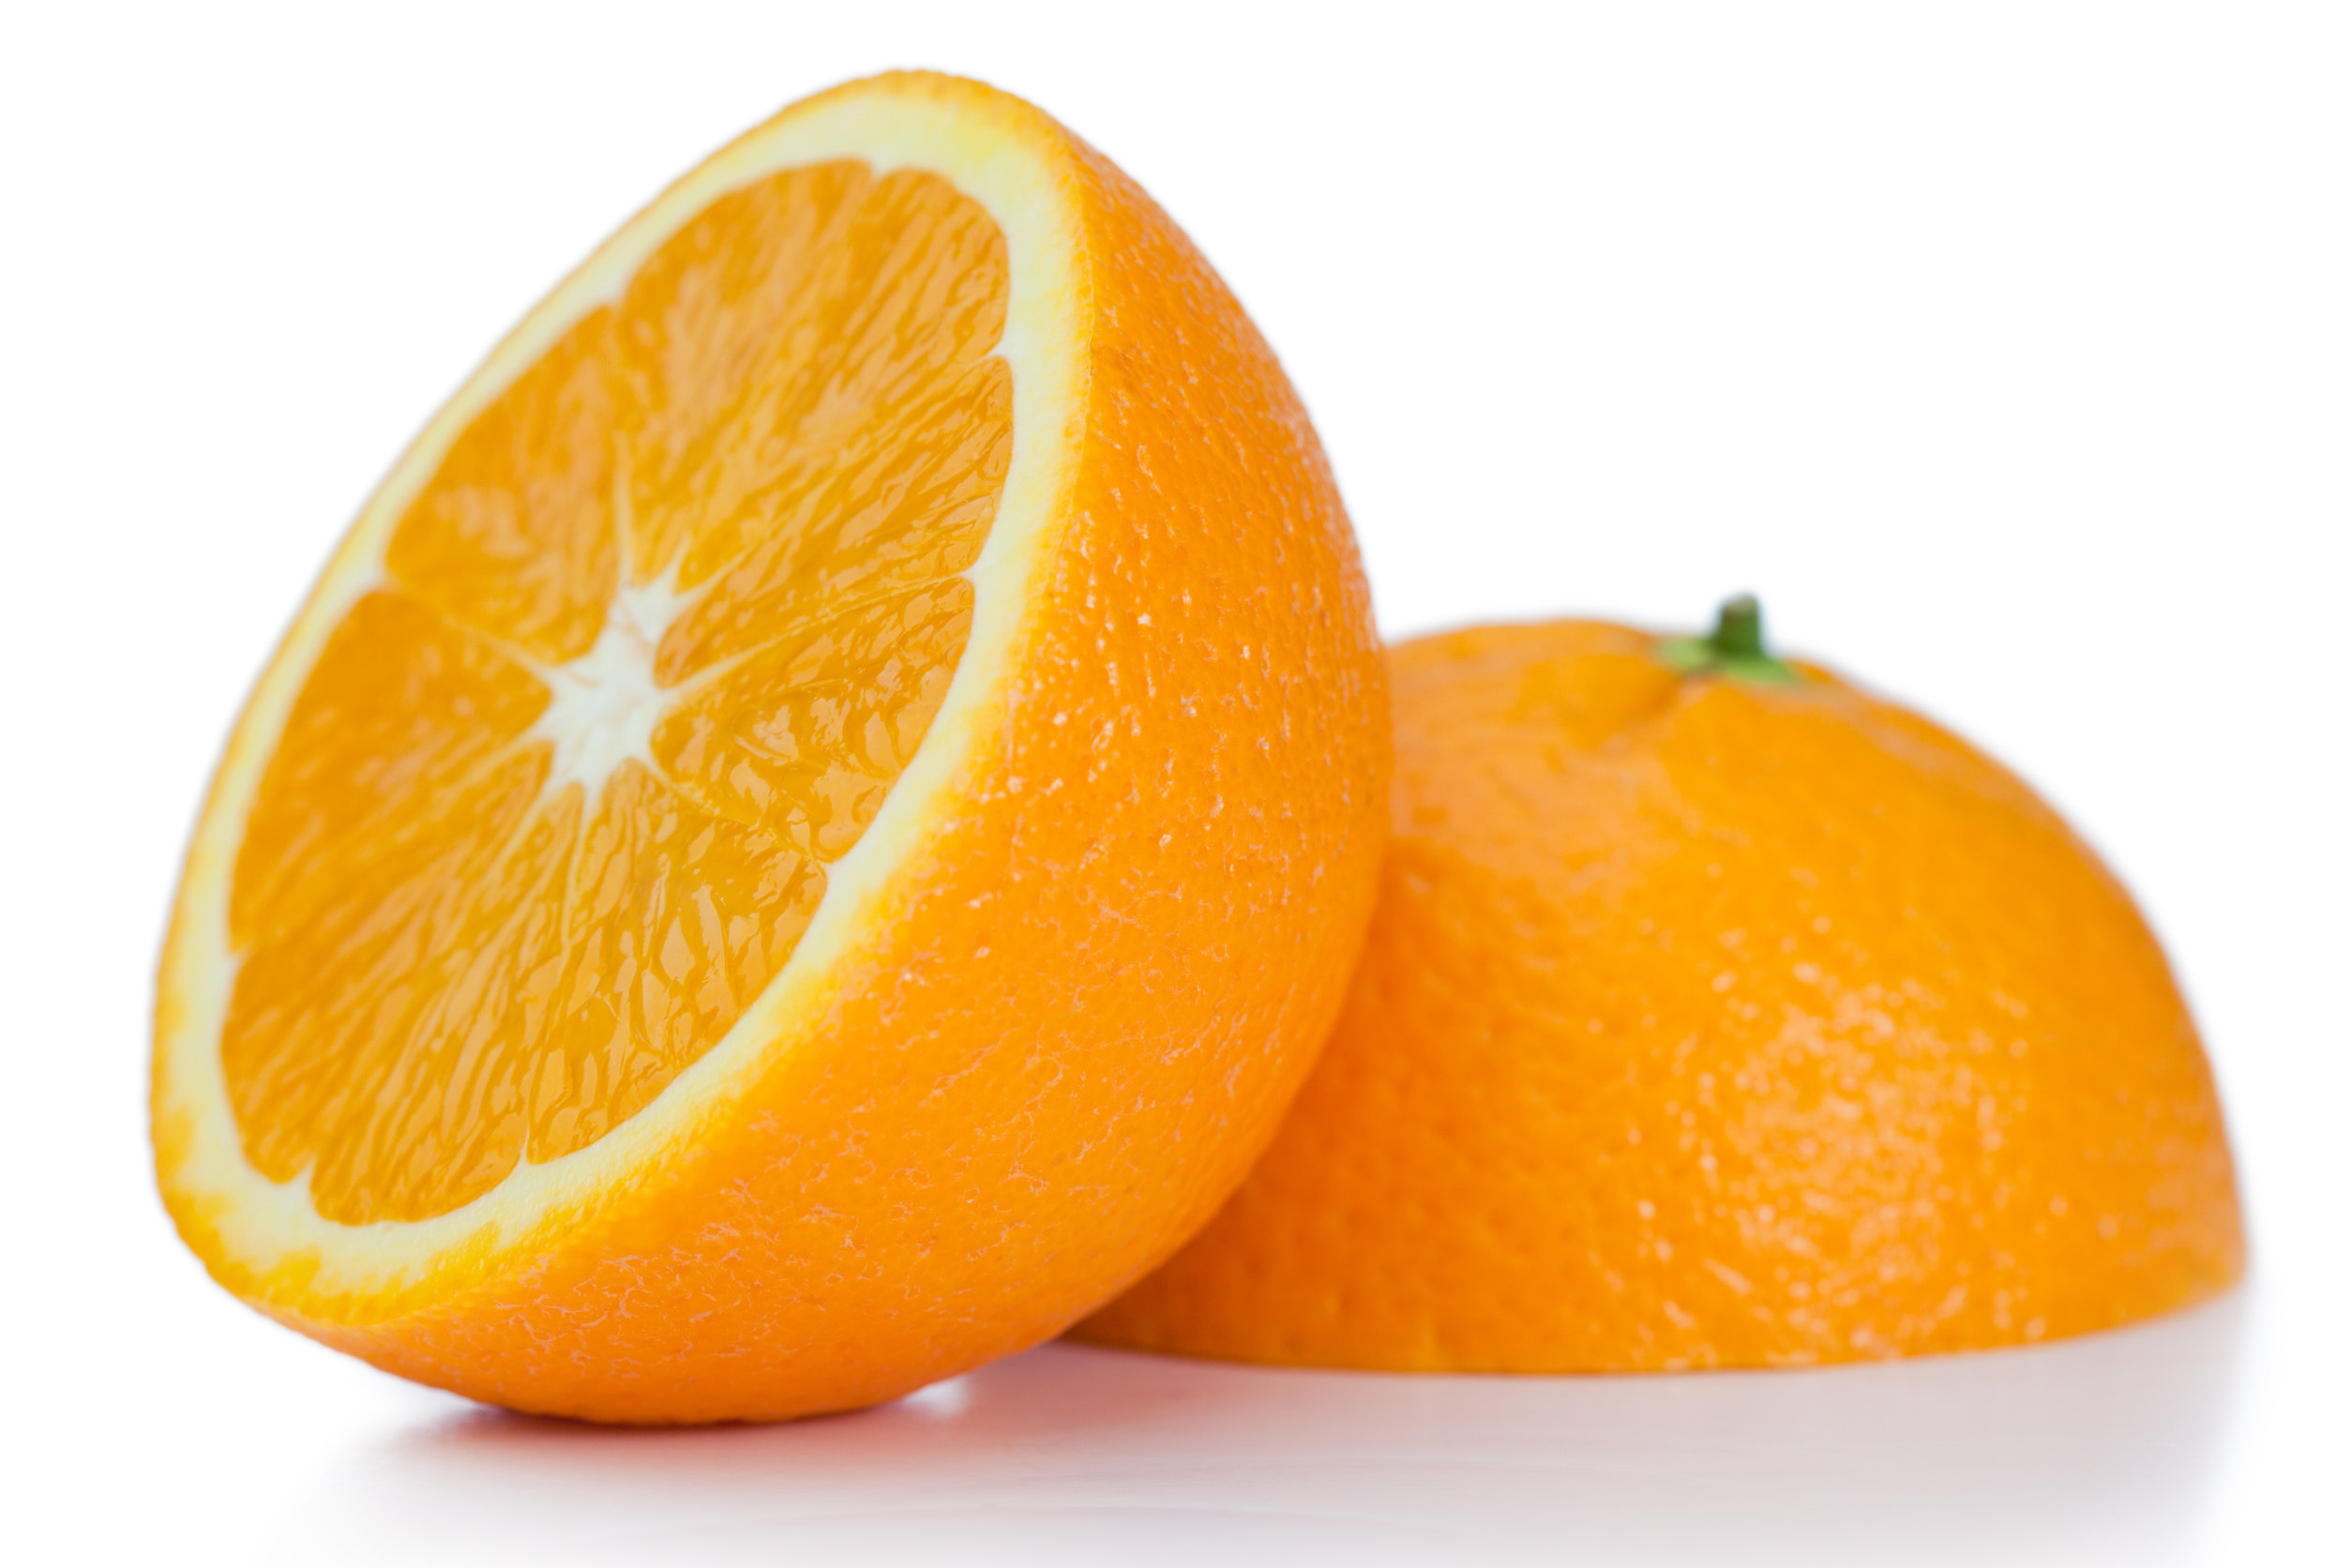orange: (137, 56, 1426, 1479), (1241, 584, 2259, 1423)
